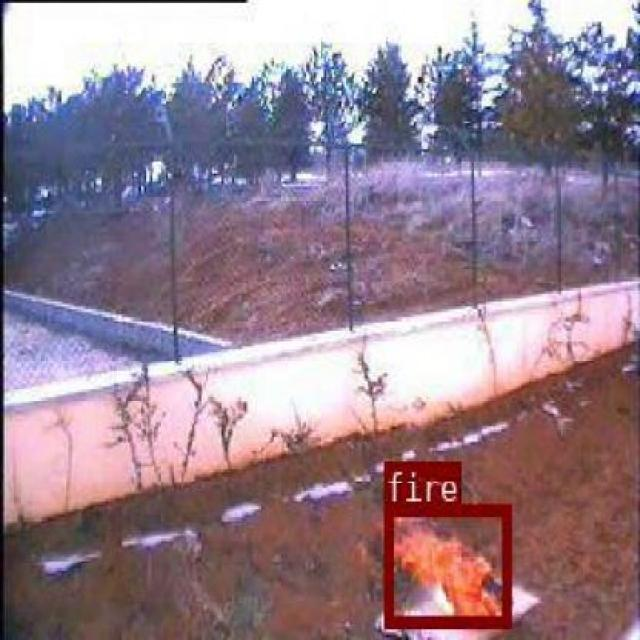fire: (384, 502, 509, 627)
